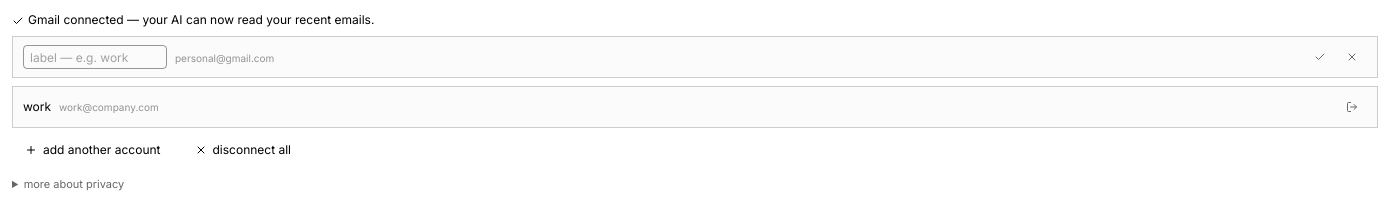
Test case: ComposioCard multi-account › renames via the pencil with an empty input for unlabeled accounts
Earlier steps of the test are not shown.
Expected: the text "personal@gmail.com" is shown, [175,50,274,66]
In the field with placeholder "label — e.g. work": (95,57) [23,45,167,69], type "personal"
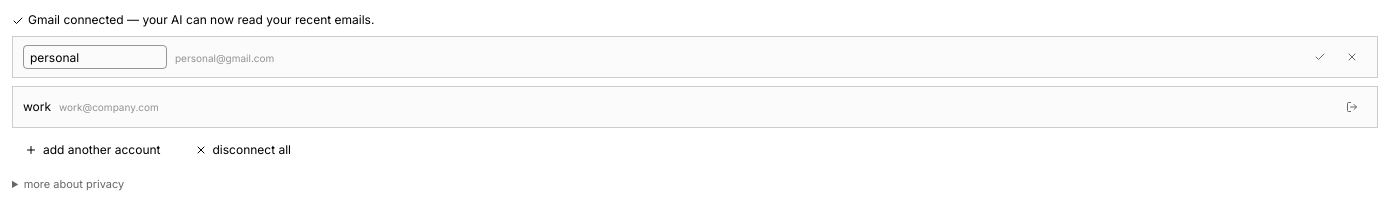
Press Enter in the field with placeholder "label — e.g. work", box [23,45,167,69]
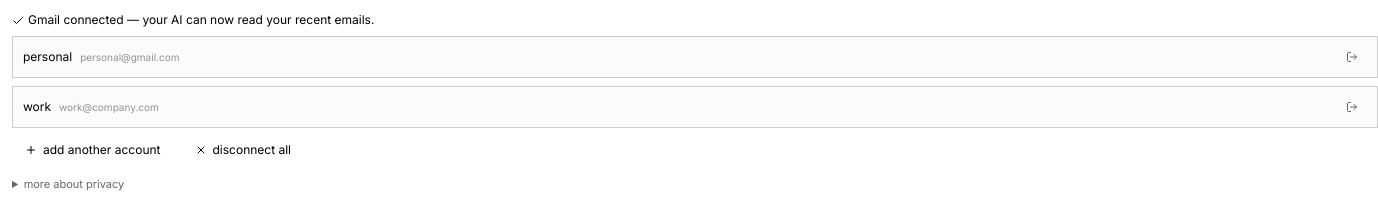
Result: the text "personal" is shown at [23,49,72,65]
